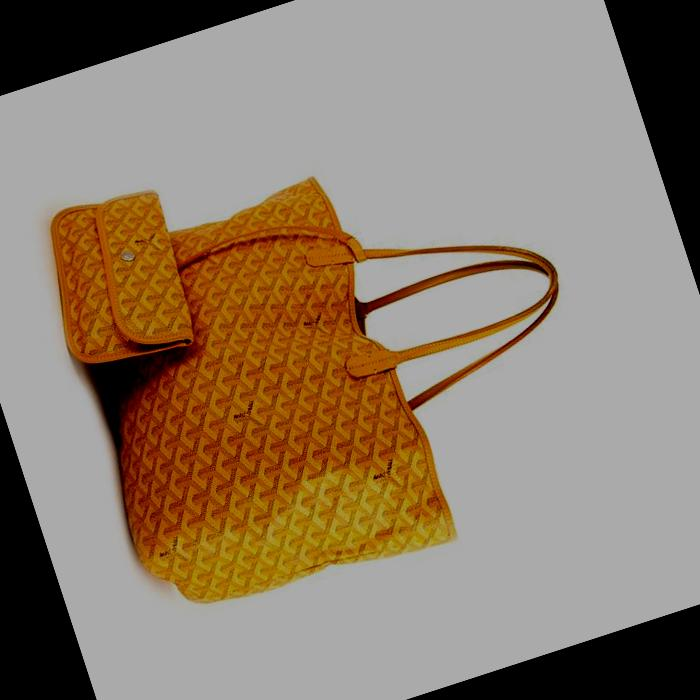GOYARD: (41, 170, 450, 634), (32, 184, 202, 371)
